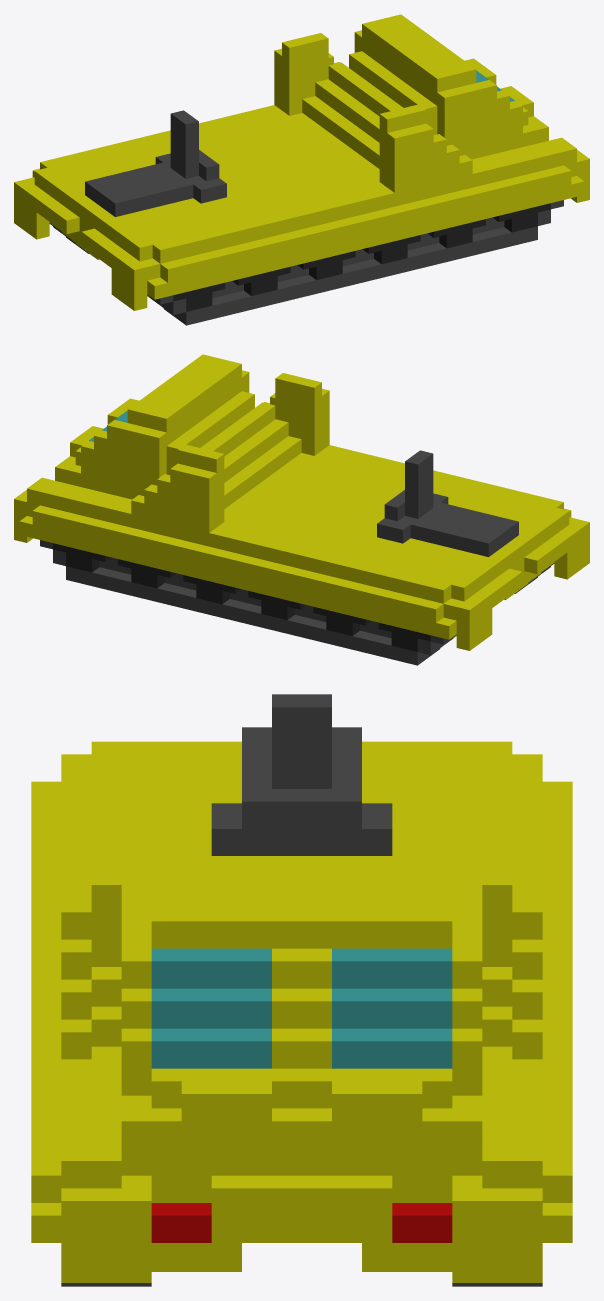
The model's file is RocketLauncherBody.obj.
The picture shows the model from 3 angles, top to bottom: view 1: azimuth 30°, elevation 25°; view 2: azimuth 150°, elevation 25°; view 3: azimuth 270°, elevation 25°; orthographic projection. The views are drawn at different scales.
Bounding box in the file's own units: 3.5 × 1.2 × 1.8.
1 material, 1 textured.
